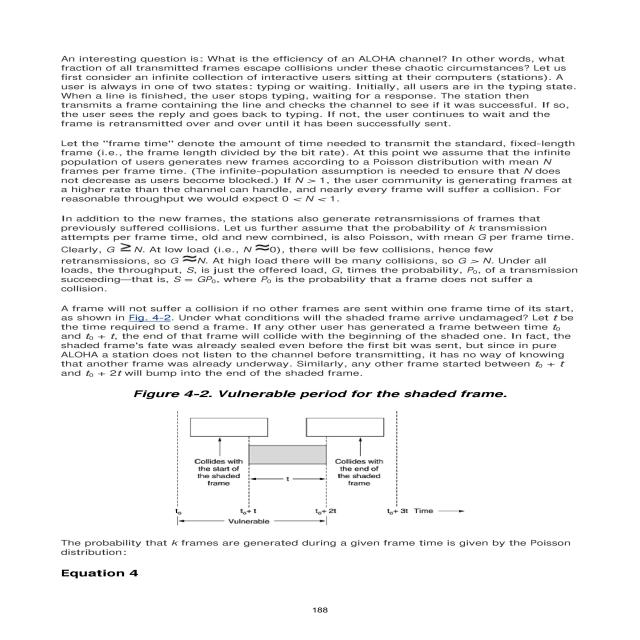diagram: (102, 380, 555, 532)
